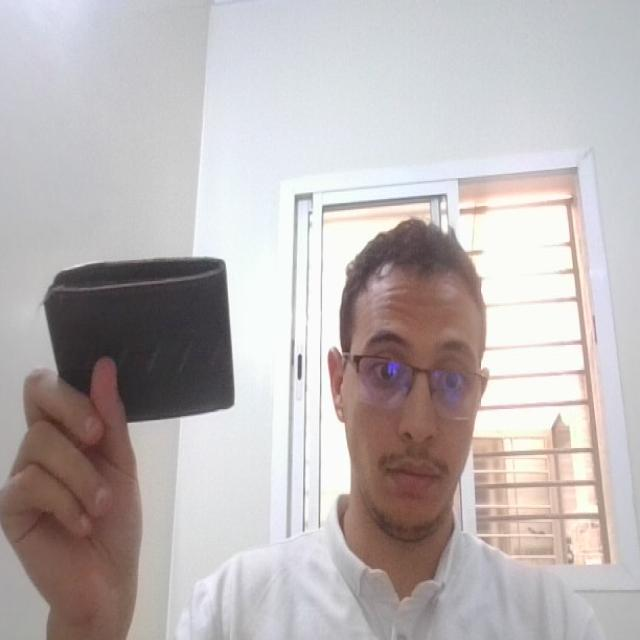wallet: (38, 254, 246, 440)
